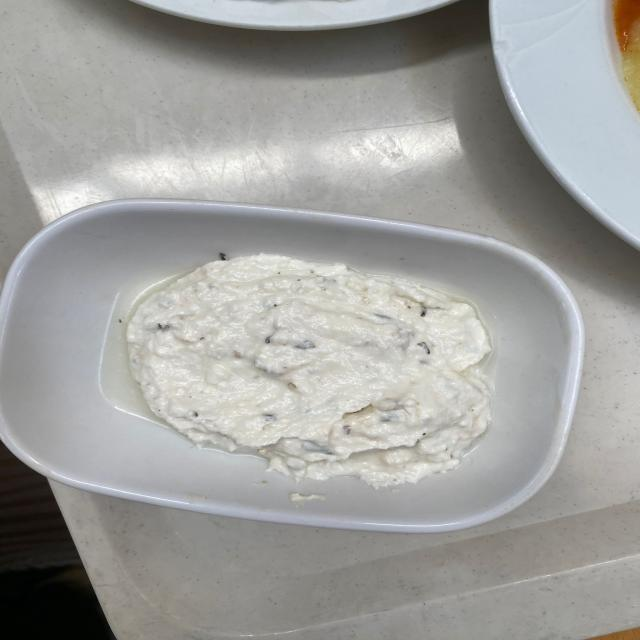yan_yemek: (123, 252, 495, 490)
